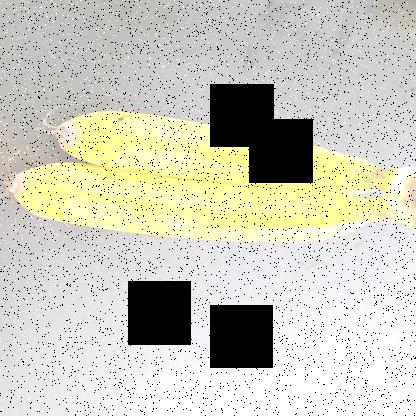freshripe: (0, 166, 389, 256)
ripe: (43, 104, 395, 202)
